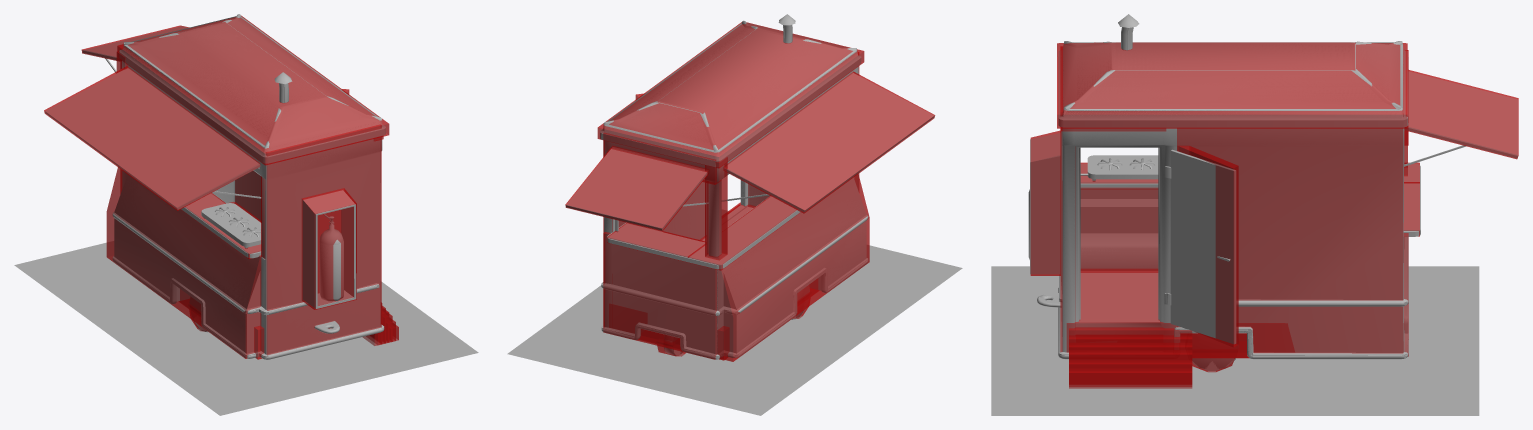
Rendered from food_cart.dae.
3 views of the same model, side by side, from view 1: azimuth 30°, elevation 25°; view 2: azimuth 150°, elevation 25°; view 3: azimuth 270°, elevation 25° (orthographic). The views are drawn at different scales.
Parts seen in each view (by area): view 1: colmesh-2, foodCart100, foodCart500; view 2: colmesh-2, foodCart100, foodCart500; view 3: foodCart100, colmesh-2, foodCart500.
Part boxes in pixels (bbox=[...]): colmesh-2: bbox=[44, 15, 398, 359]; foodCart100: bbox=[45, 16, 385, 359]; foodCart500: bbox=[14, 14, 478, 415]; colmesh-2: bbox=[565, 22, 935, 361]; foodCart100: bbox=[566, 14, 934, 358]; foodCart500: bbox=[507, 14, 962, 415]; foodCart100: bbox=[1028, 14, 1517, 370]; colmesh-2: bbox=[1030, 42, 1518, 388]; foodCart500: bbox=[991, 14, 1517, 415].
Bounding box in the file's own units: 23.32 × 22.89 × 33.74.
